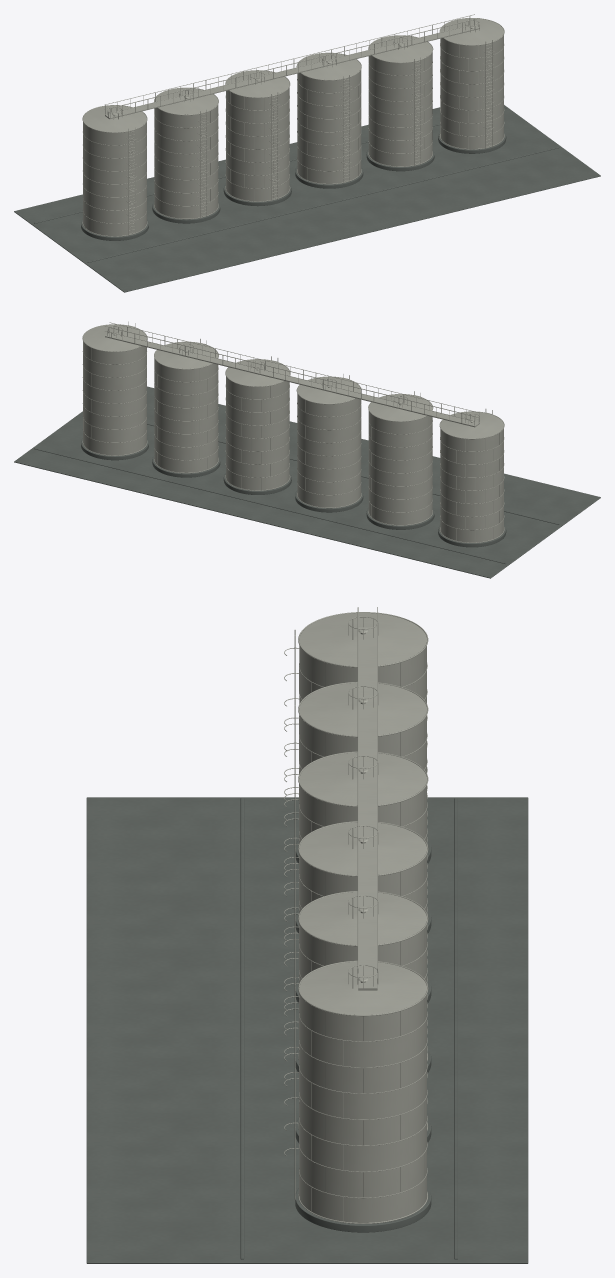
The model's file is tianyoude-storage-web.glb.
The picture shows the model from 3 angles, top to bottom: view 1: azimuth 30°, elevation 25°; view 2: azimuth 150°, elevation 25°; view 3: azimuth 270°, elevation 25°; orthographic projection. The views are drawn at different scales.
Visible parts, largest first — view 1: 储酒罐区地面 / Storage facility neutral concrete ground, 储酒罐主体 / Storage tanks brushed stainless steel, 储酒罐主体 / Storage tanks alternate steel courses, 储酒罐梯架与管线 / Storage tank ladders and catwalk steel, 储酒罐焊缝与罐顶 / Storage tanks brushed stainless steel, 储酒罐焊缝与罐顶 / Storage tank restrained weld seams, 储酒罐基础 / Storage facility concrete foundations, 储酒罐区地面 / Storage facility concrete foundations; view 2: 储酒罐主体 / Storage tanks brushed stainless steel, 储酒罐区地面 / Storage facility neutral concrete ground, 储酒罐主体 / Storage tanks alternate steel courses, 储酒罐焊缝与罐顶 / Storage tanks brushed stainless steel, 储酒罐焊缝与罐顶 / Storage tank restrained weld seams, 储酒罐梯架与管线 / Storage tank ladders and catwalk steel, 储酒罐基础 / Storage facility concrete foundations, 储酒罐区地面 / Storage facility concrete foundations; view 3: 储酒罐区地面 / Storage facility neutral concrete ground, 储酒罐焊缝与罐顶 / Storage tanks brushed stainless steel, 储酒罐主体 / Storage tanks alternate steel courses, 储酒罐主体 / Storage tanks brushed stainless steel, 储酒罐梯架与管线 / Storage tank ladders and catwalk steel, 储酒罐焊缝与罐顶 / Storage tank restrained weld seams, 储酒罐区地面 / Storage facility concrete foundations, 储酒罐基础 / Storage facility concrete foundations.
Boxes of the visible parts, x1,y1,x2,y2 form: 储酒罐区地面 / Storage facility neutral concrete ground: (14,105,600,292); 储酒罐主体 / Storage tanks brushed stainless steel: (83,47,503,236); 储酒罐主体 / Storage tanks alternate steel courses: (83,35,503,223); 储酒罐梯架与管线 / Storage tank ladders and catwalk steel: (105,14,494,235); 储酒罐焊缝与罐顶 / Storage tanks brushed stainless steel: (83,18,503,132); 储酒罐焊缝与罐顶 / Storage tank restrained weld seams: (82,18,504,236); 储酒罐基础 / Storage facility concrete foundations: (81,131,506,240); 储酒罐区地面 / Storage facility concrete foundations: (34,107,559,262); 储酒罐主体 / Storage tanks brushed stainless steel: (83,353,503,542); 储酒罐区地面 / Storage facility neutral concrete ground: (14,386,600,578); 储酒罐主体 / Storage tanks alternate steel courses: (83,337,503,529); 储酒罐焊缝与罐顶 / Storage tanks brushed stainless steel: (83,324,503,438); 储酒罐焊缝与罐顶 / Storage tank restrained weld seams: (82,324,504,542); 储酒罐梯架与管线 / Storage tank ladders and catwalk steel: (105,321,492,427); 储酒罐基础 / Storage facility concrete foundations: (81,438,506,547); 储酒罐区地面 / Storage facility concrete foundations: (34,423,559,563); 储酒罐区地面 / Storage facility neutral concrete ground: (86,797,528,1263); 储酒罐焊缝与罐顶 / Storage tanks brushed stainless steel: (299,613,426,1014); 储酒罐主体 / Storage tanks alternate steel courses: (299,629,426,1197); 储酒罐主体 / Storage tanks brushed stainless steel: (299,670,426,1222); 储酒罐梯架与管线 / Storage tank ladders and catwalk steel: (284,607,378,1199); 储酒罐焊缝与罐顶 / Storage tank restrained weld seams: (298,612,428,1223); 储酒罐区地面 / Storage facility concrete foundations: (240,798,457,1259); 储酒罐基础 / Storage facility concrete foundations: (295,840,431,1232).
Size of the model in its own units: 47.4 by 11.58 by 19.
6 materials, 6 textured.
